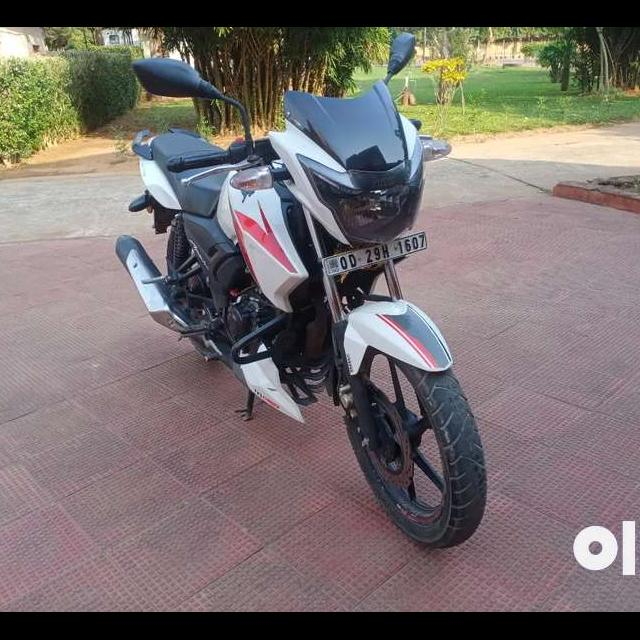Indian_Number_Plate: (325, 232, 427, 276)
